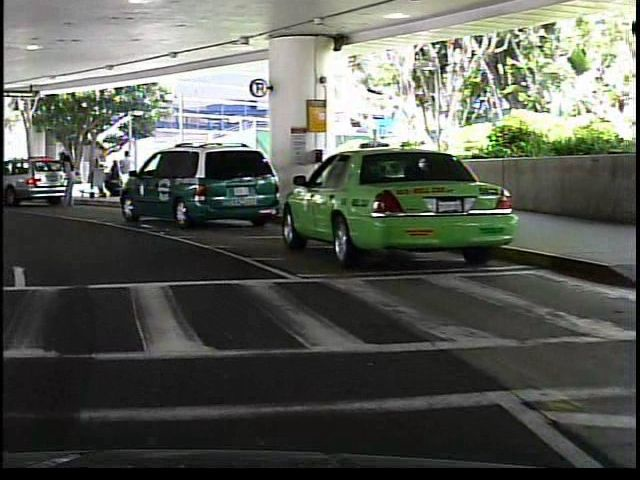person: (57, 151, 76, 208)
